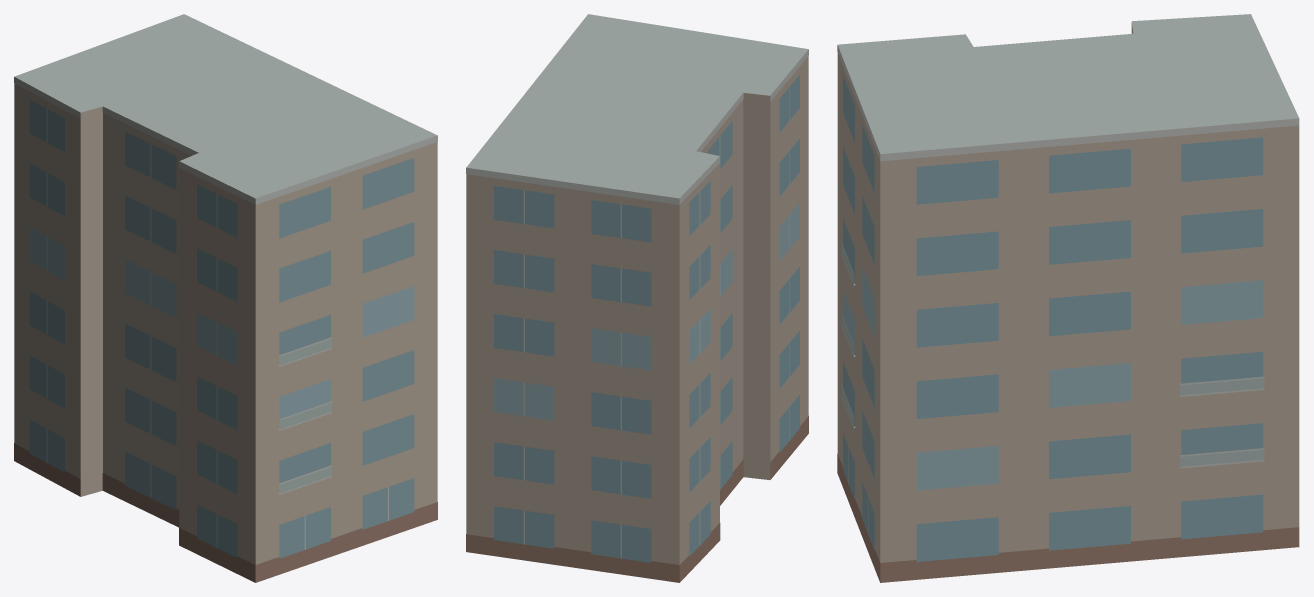
File: survey-upis-32882588.glb
3 renders of one model, left to right at view 1: azimuth 30°, elevation 25°; view 2: azimuth 150°, elevation 25°; view 3: azimuth 270°, elevation 25°, orthographic. The views are drawn at different scales.
Parts seen in each view (by area): view 1: survey-upis-32882588.tmp; view 2: survey-upis-32882588.tmp; view 3: survey-upis-32882588.tmp.
Boxes of the visible parts, left/top/right/bottom form: survey-upis-32882588.tmp: left=14, top=14, right=437, bottom=582; survey-upis-32882588.tmp: left=466, top=14, right=808, bottom=582; survey-upis-32882588.tmp: left=837, top=14, right=1299, bottom=582.
Bounding box in the file's own units: 10.32 × 14.7 × 14.36.
